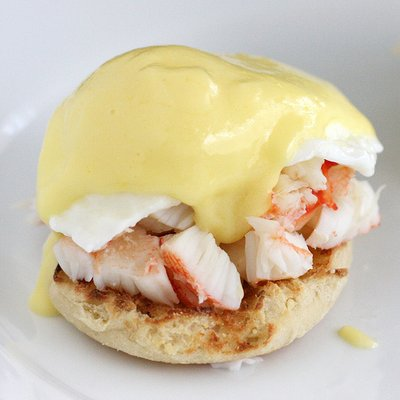soup: (22, 31, 381, 369)
